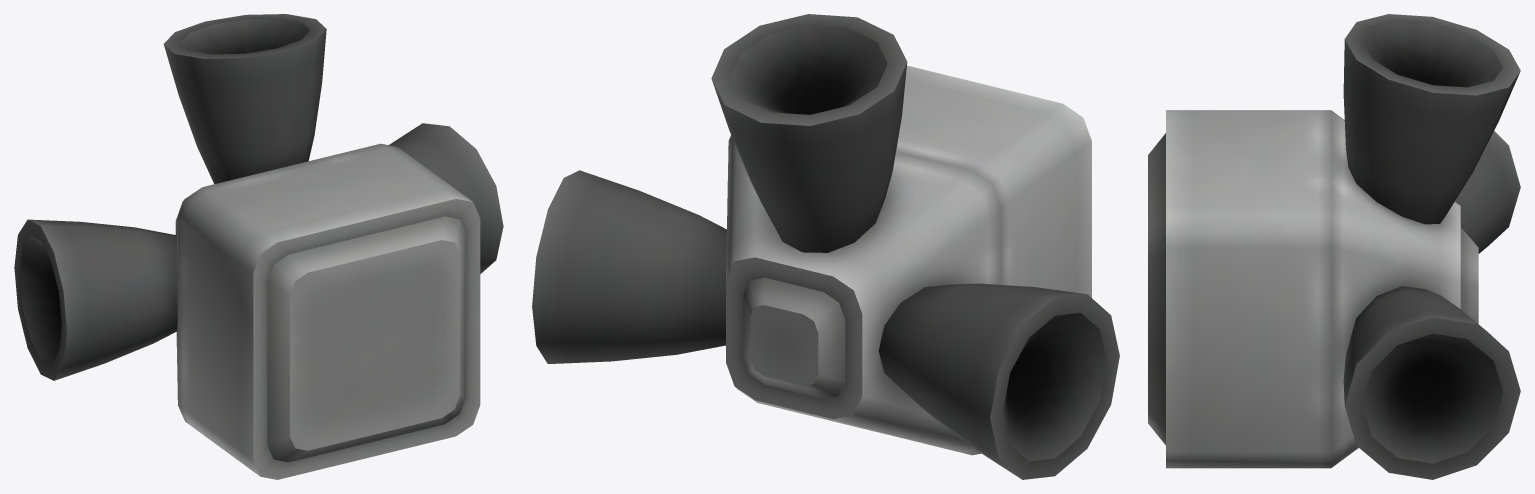
File: Tantares_RCS_2.obj
3 renders of one model, left to right at view 1: azimuth 30°, elevation 25°; view 2: azimuth 150°, elevation 25°; view 3: azimuth 270°, elevation 25°, orthographic. The views are drawn at different scales.
Parts seen in each view (by area): view 1: Tantares_RCS_2; view 2: Tantares_RCS_2; view 3: Tantares_RCS_2.
Part boxes in pixels (x1,y1,x2,y2): Tantares_RCS_2: [14, 14, 503, 479]; Tantares_RCS_2: [532, 14, 1119, 479]; Tantares_RCS_2: [1148, 14, 1520, 479].
Bounding box in the file's own units: 0.1923 × 0.1461 × 0.1297.
